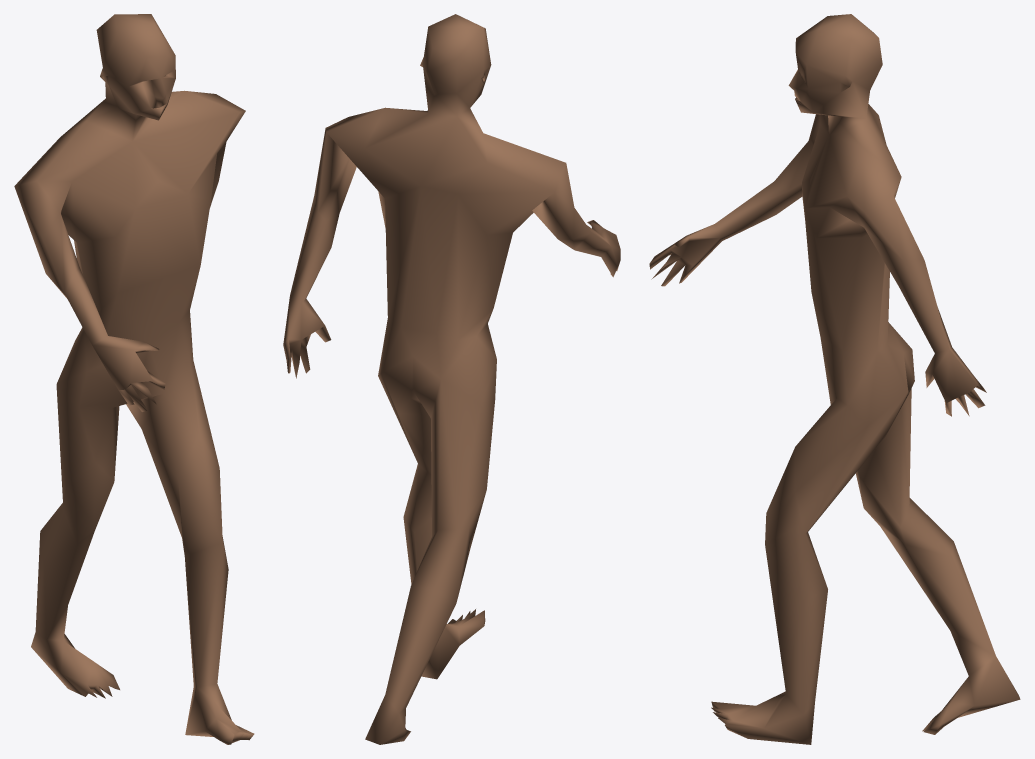
The model's file is obs_000053.obj.
The picture shows the model from 3 angles, left to right: view 1: azimuth 30°, elevation 25°; view 2: azimuth 150°, elevation 25°; view 3: azimuth 270°, elevation 25°; orthographic projection. The views are drawn at different scales.
Parts seen in each view (by area): view 1: 1-base_1-base.008; view 2: 1-base_1-base.008; view 3: 1-base_1-base.008.
Part boxes in pixels (x1,y1,x2,y2): 1-base_1-base.008: [14, 14, 254, 744]; 1-base_1-base.008: [283, 14, 620, 744]; 1-base_1-base.008: [649, 14, 1020, 744].
Size of the model in its own units: 0.4407 by 1.28 by 0.6113.
